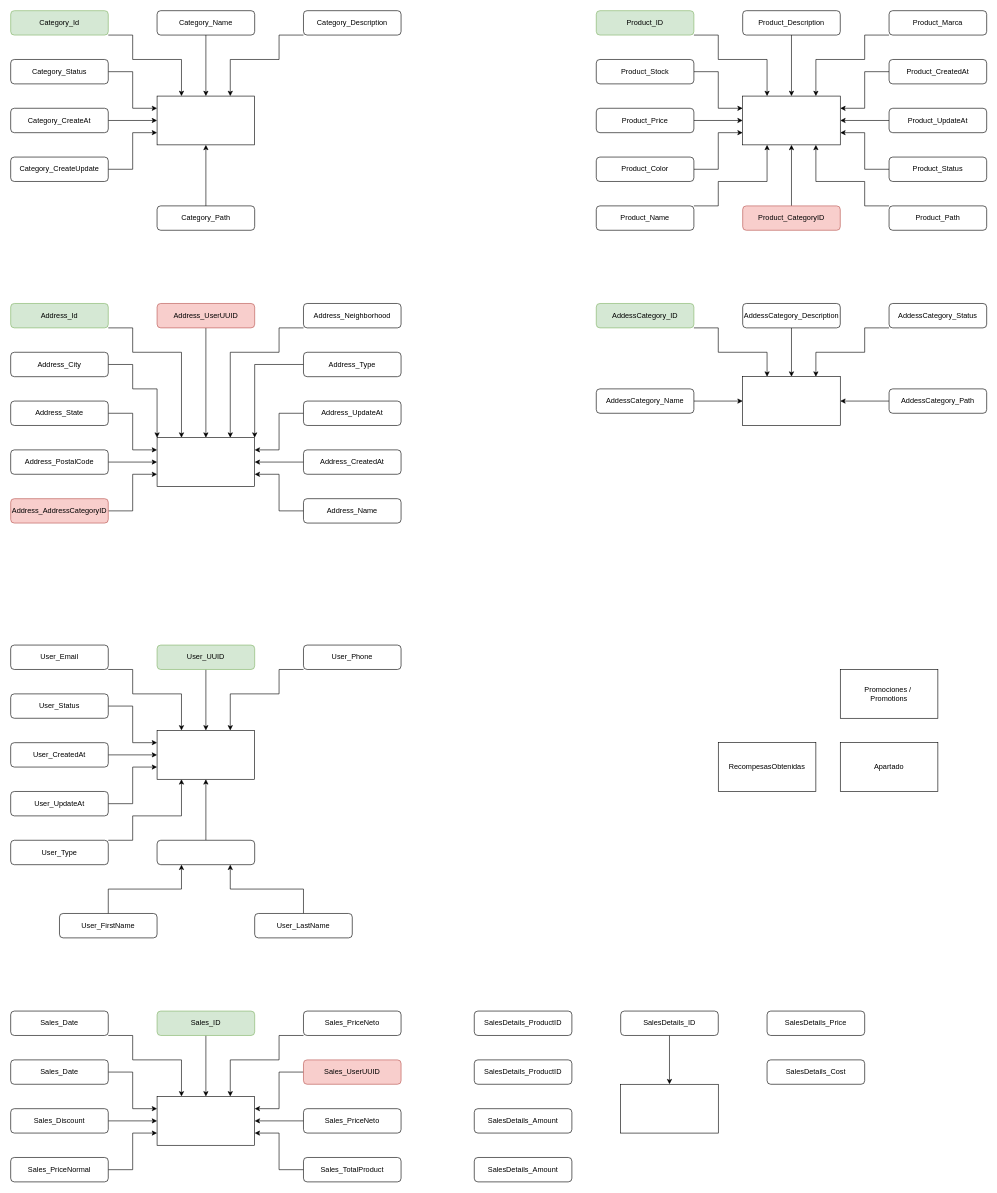
Image size: 997x1193. Some labels were removed from this diagram. The box of each missing label's shape, as (x1, y1, x2, y2) in pixels:
AddessCategory: (742, 376, 840, 425)
Categoría / Category: (156, 95, 255, 145)
Detalles de Venta / SalesDetails: (620, 1084, 718, 1133)
Producto / Product: (742, 95, 840, 145)
Ubicación / Add ress: (156, 437, 255, 486)
User_Name: (156, 840, 255, 865)
Usuarios / Users: (156, 730, 255, 779)
Venta / Sales: (156, 1096, 255, 1145)
